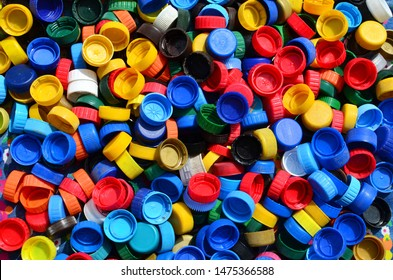PlasticCap: (40, 132, 75, 166), (32, 74, 64, 108), (215, 91, 246, 126), (143, 93, 173, 122), (252, 65, 281, 93), (106, 210, 131, 240), (162, 30, 187, 58)
